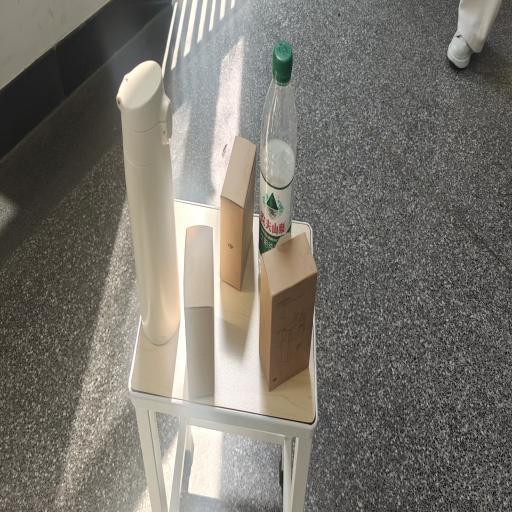bottle: (116, 60, 181, 344), (257, 41, 297, 273)
box: (259, 233, 317, 390), (219, 136, 256, 290), (183, 225, 215, 399)
